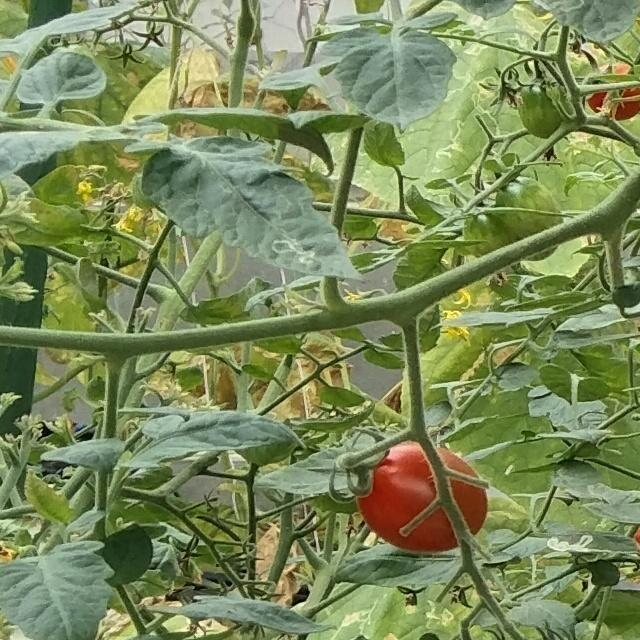Healthy: (322, 25, 456, 137), (0, 538, 115, 640), (138, 406, 308, 469), (17, 44, 105, 111)
Leaf_Miner: (132, 122, 367, 283), (540, 523, 640, 568)
